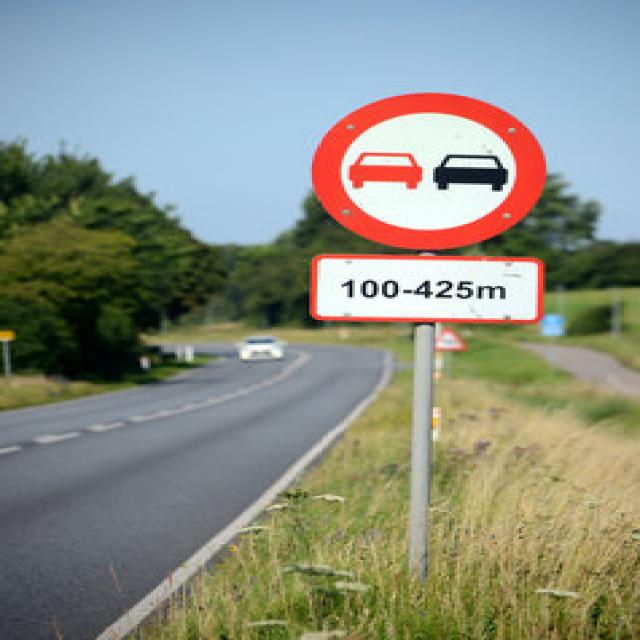no overtaking: (306, 95, 556, 256)
